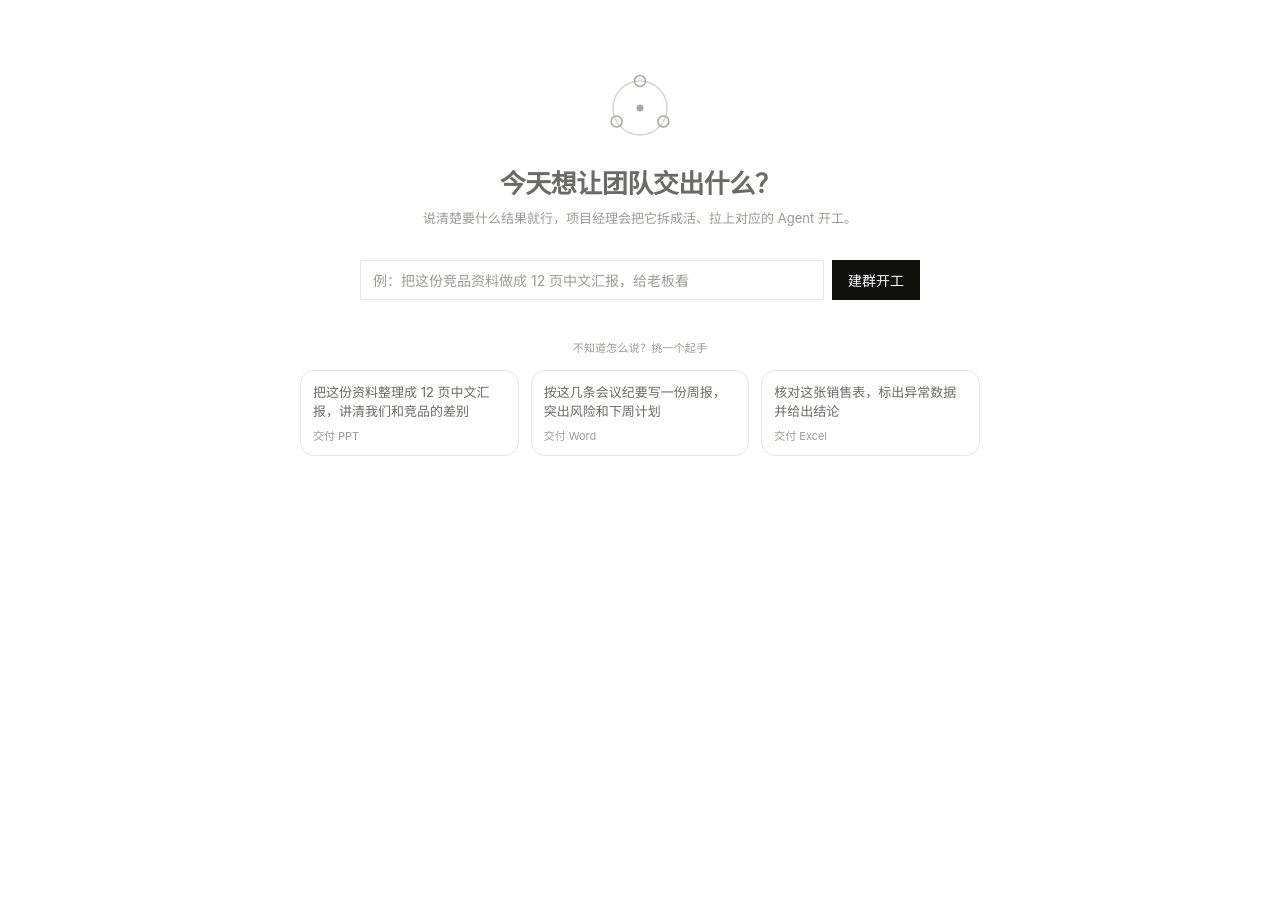
Test case: EmptyState · 欢迎态 › 按「建群开工」→ 开既有的新建项目弹窗，并把那句话预填进群聊名
Type "写一份周报" into the field with placeholder "例：把这份竞品资料做成 12 页中文汇报，给老板看" at (592, 280), box [360, 260, 824, 300]
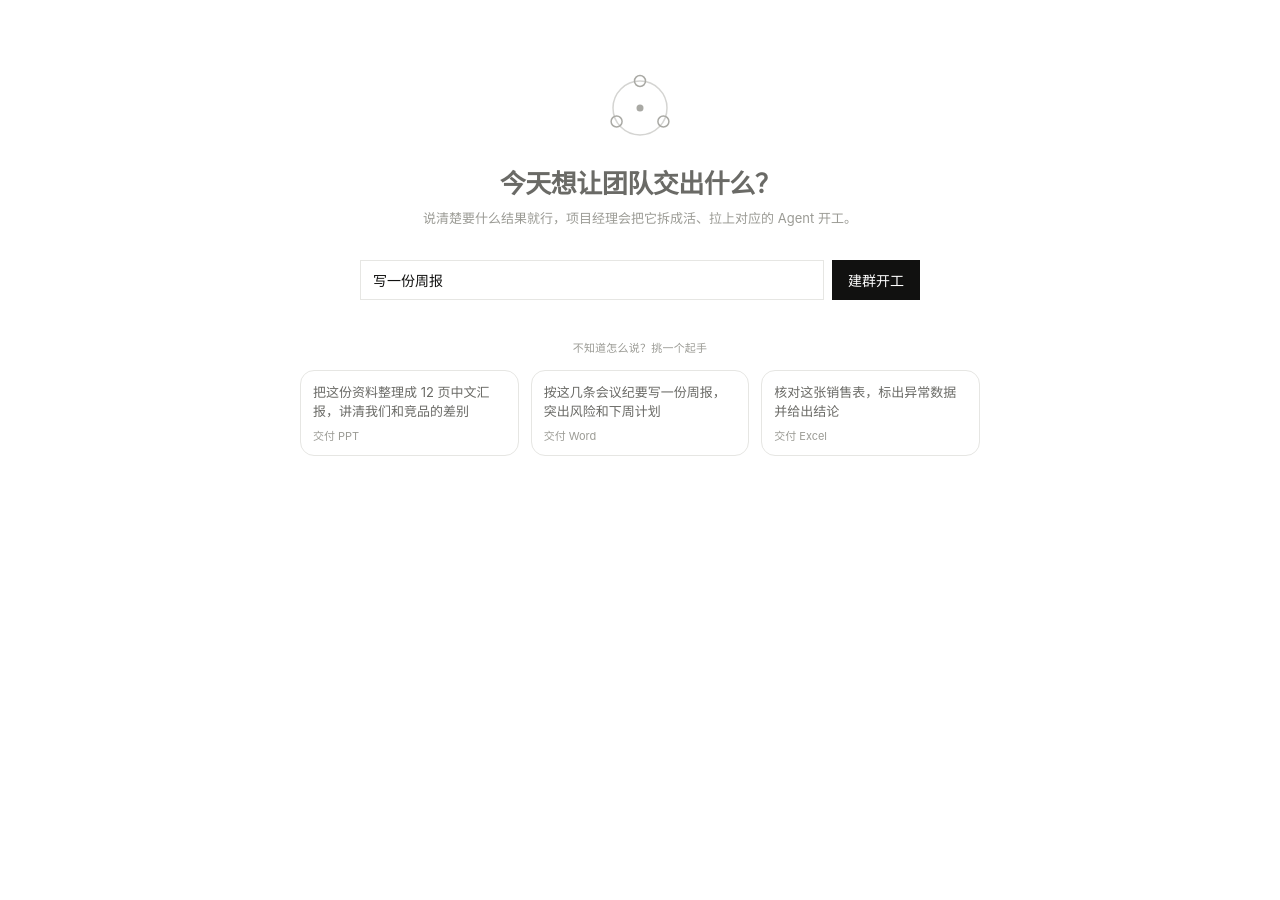
Click the button "建群开工" at (876, 280), box [832, 260, 920, 300]
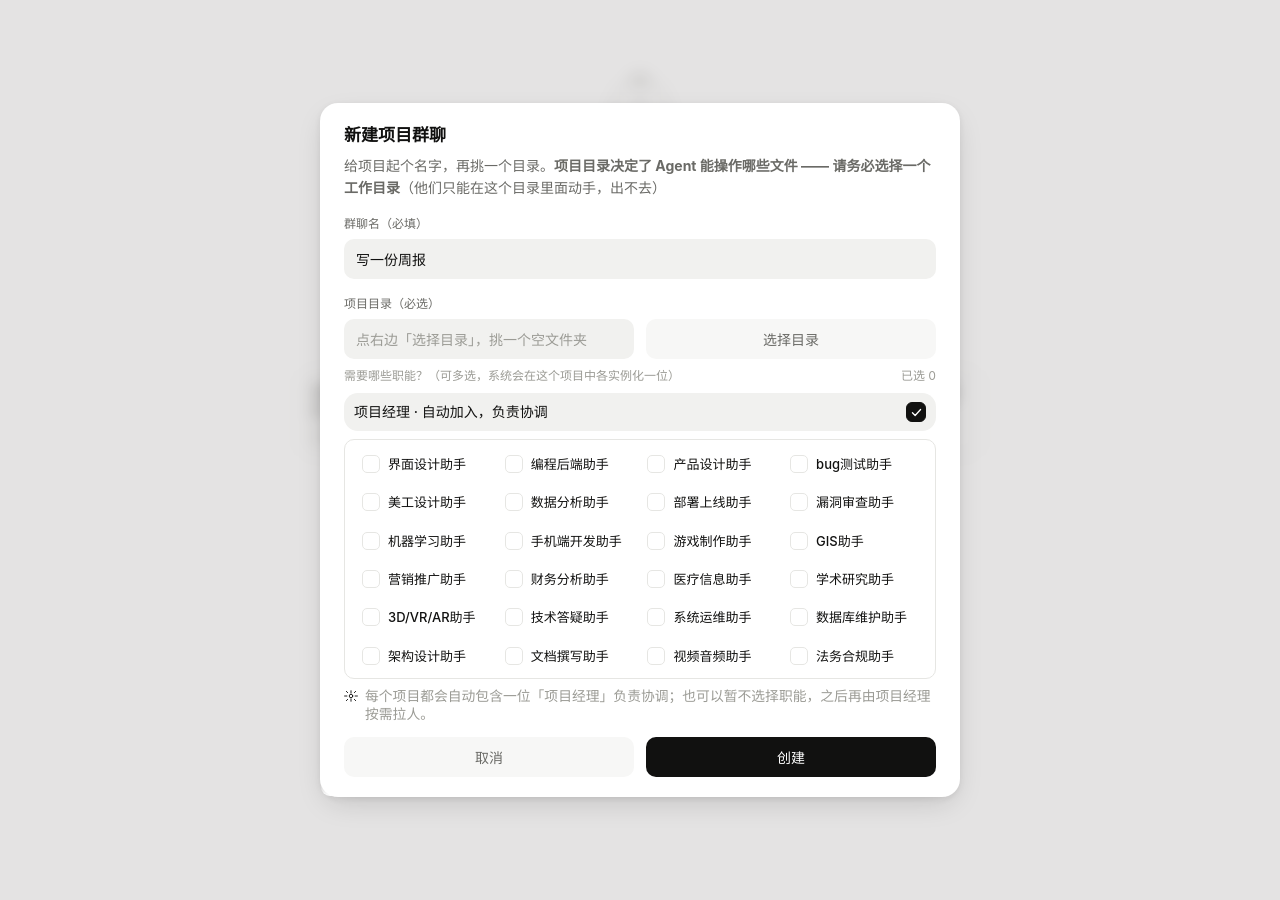
expect the dialog "新建项目" is shown: met
expect the field named "项目名" holds "写一份周报": met, box [344, 239, 936, 279]
